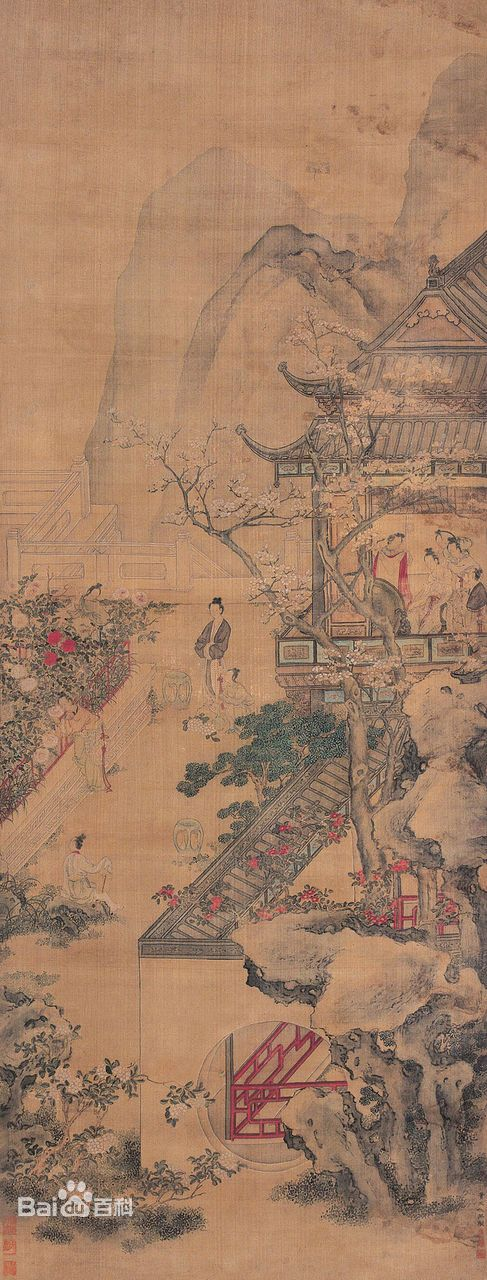flower: (1, 593, 149, 795), (31, 1042, 95, 1161), (18, 1155, 127, 1207), (261, 891, 343, 913), (165, 1090, 214, 1122), (144, 1169, 181, 1201), (368, 879, 393, 925), (193, 1163, 244, 1185), (93, 1061, 133, 1082), (151, 889, 185, 913), (251, 850, 285, 869), (328, 813, 345, 849), (204, 899, 240, 915), (275, 824, 301, 837)
house: (301, 234, 487, 687)
kid: (60, 836, 114, 901), (224, 667, 258, 725)
mountain: (108, 149, 336, 460), (370, 16, 487, 237)
plum: (345, 694, 384, 872), (165, 462, 220, 535), (225, 488, 318, 529), (318, 631, 355, 695), (345, 437, 377, 494), (379, 623, 405, 688), (256, 572, 297, 610), (356, 545, 375, 618), (413, 443, 472, 466), (389, 717, 404, 804), (316, 542, 346, 583), (383, 465, 437, 487), (379, 367, 440, 385), (320, 323, 365, 341), (350, 406, 381, 427), (271, 612, 306, 628), (295, 319, 317, 344), (223, 533, 242, 551), (322, 506, 353, 517), (263, 552, 283, 567), (323, 351, 334, 378), (310, 369, 334, 380), (375, 395, 395, 407), (241, 555, 252, 567)
tree: (198, 722, 391, 817)
wall: (136, 940, 313, 1188), (2, 470, 169, 587), (100, 683, 157, 756), (2, 819, 29, 876), (17, 805, 53, 844), (154, 922, 206, 948), (59, 760, 82, 817)
woman: (376, 521, 483, 618), (196, 595, 230, 712)
